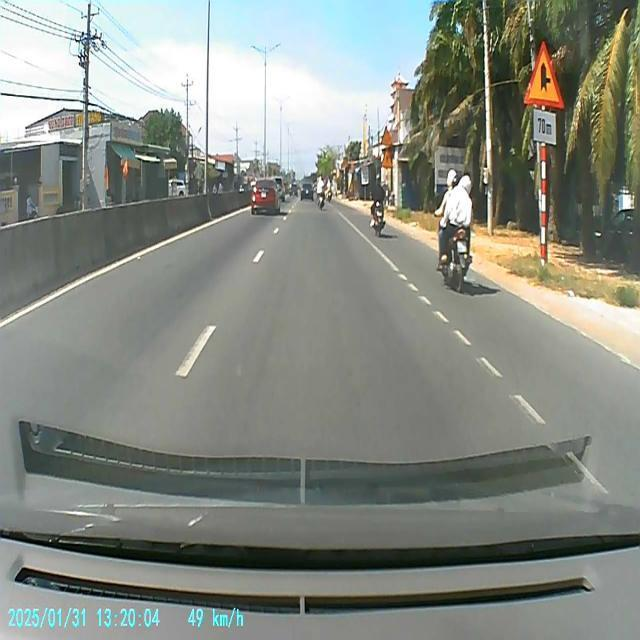207-giao-nhau-voi-duong-khong-uu-tien: (524, 42, 564, 114)
